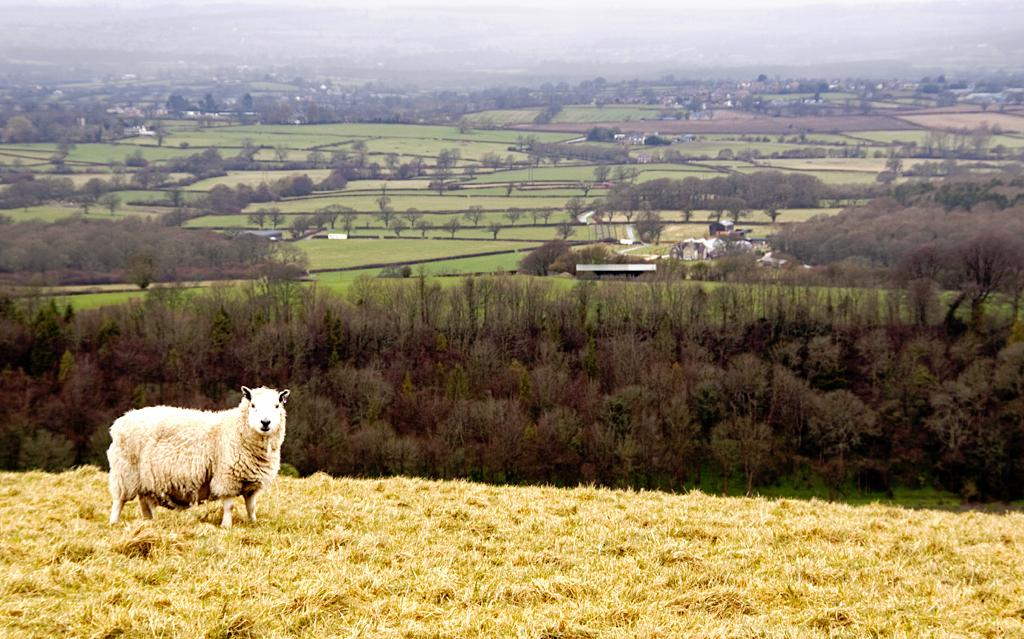Sheep: (97, 387, 296, 536)
